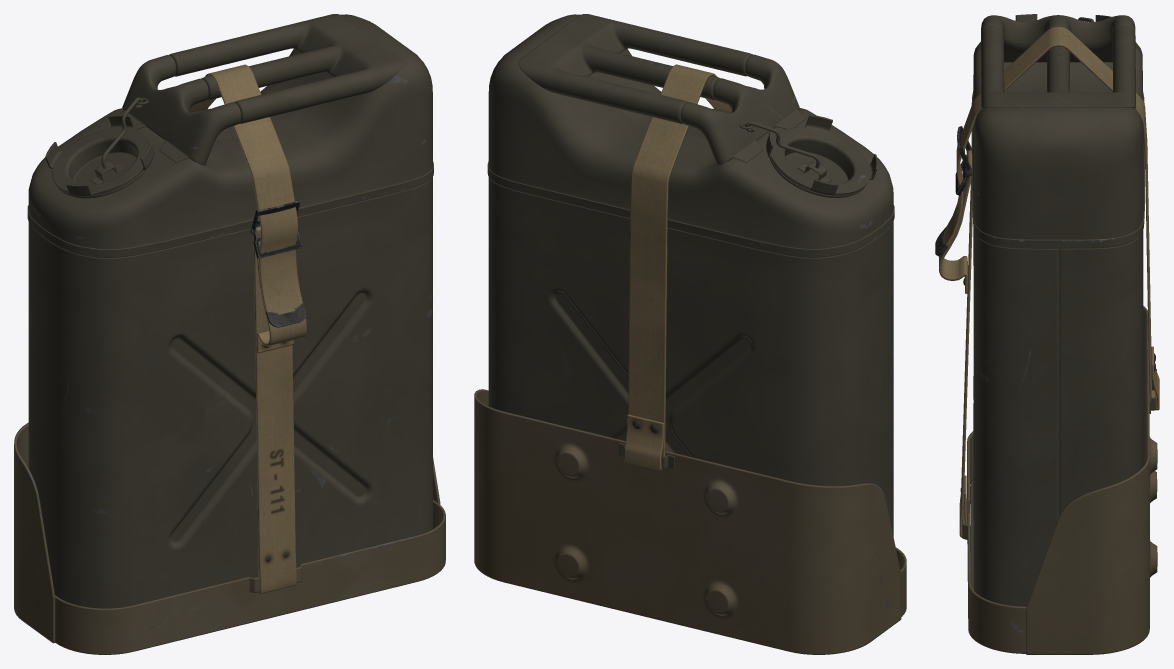
The model's file is jerrycan.glb.
3 views of the same model, side by side, from view 1: azimuth 30°, elevation 25°; view 2: azimuth 150°, elevation 25°; view 3: azimuth 270°, elevation 25° (orthographic).
Visible parts, largest first — view 1: jerrycan_21, jerrycan_23, jerrycan_03, jerrycan_13, jerrycan_12, jerrycan_04, jerrycan_20, jerrycan_22; view 2: jerrycan_21, jerrycan_20, jerrycan_12, jerrycan_03, jerrycan_04, jerrycan_22; view 3: jerrycan_21, jerrycan_20, jerrycan_03, jerrycan_12, jerrycan_23, jerrycan_04, jerrycan_13, jerrycan_01.
Boxes of the visible parts, x1,y1,x2,y2 form: jerrycan_21: (27,14,433,608); jerrycan_23: (55,500,445,654); jerrycan_03: (169,14,403,123); jerrycan_13: (253,226,306,594); jerrycan_12: (190,64,302,314); jerrycan_04: (119,55,241,165); jerrycan_20: (14,422,440,643); jerrycan_22: (45,115,154,198); jerrycan_21: (487,14,894,536); jerrycan_20: (474,389,901,654); jerrycan_12: (624,64,731,470); jerrycan_03: (518,14,752,123); jerrycan_04: (681,54,806,165); jerrycan_22: (766,114,878,197); jerrycan_21: (971,41,1144,606); jerrycan_20: (1026,306,1157,654); jerrycan_03: (981,25,1135,108); jerrycan_12: (943,26,1159,410); jerrycan_23: (962,431,1026,653); jerrycan_04: (981,15,1135,62); jerrycan_13: (939,150,972,537); jerrycan_01: (970,479,973,590).
Bounding box in the file's own units: 0.3627 × 0.4595 × 0.1788.
Materials: 1 (1 with a texture image).
